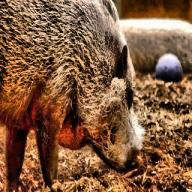boar: (0, 0, 146, 191)
